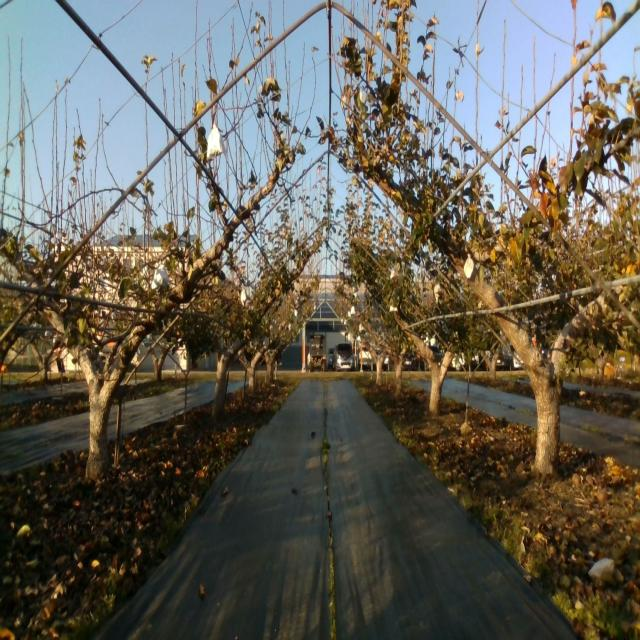pearbags: (207, 124, 224, 160), (152, 264, 168, 290), (464, 252, 476, 283)
